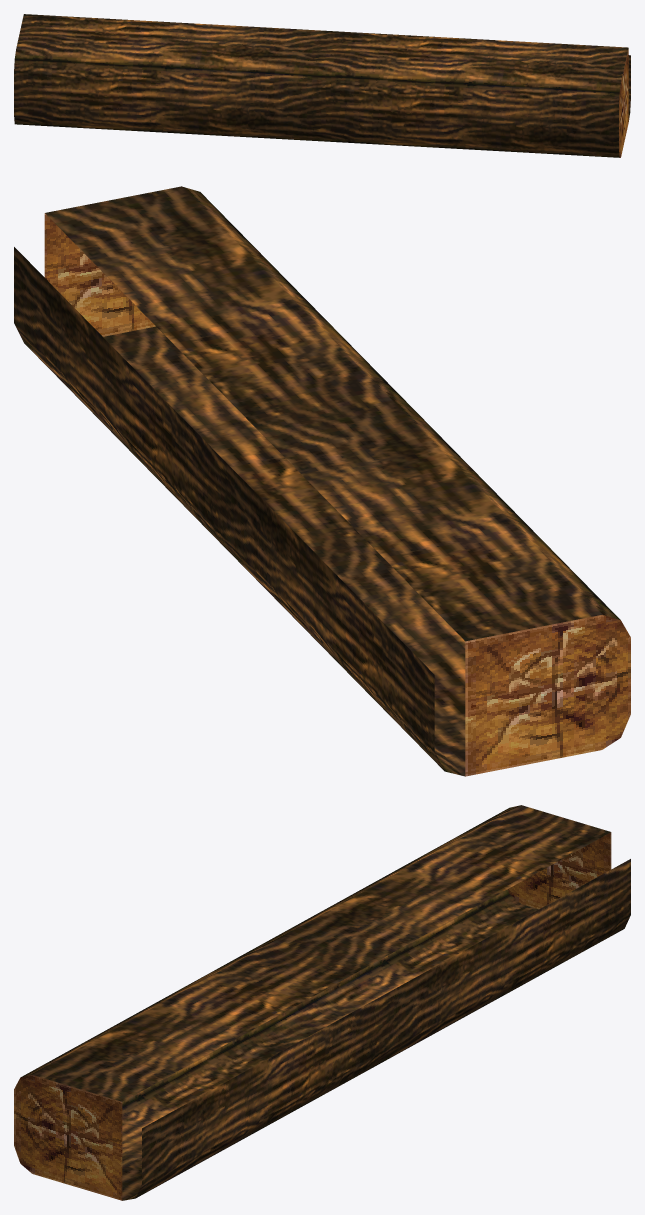
File: OVERHILL_A_01_LINE287.fbx
The picture shows the model from 3 angles, top to bottom: view 1: azimuth 30°, elevation 25°; view 2: azimuth 150°, elevation 25°; view 3: azimuth 270°, elevation 25°; orthographic projection. The views are drawn at different scales.
Visible parts, largest first — view 1: OVERHILL_A_01_LINE287; view 2: OVERHILL_A_01_LINE287; view 3: OVERHILL_A_01_LINE287.
Boxes of the visible parts, bbox=[...] form: OVERHILL_A_01_LINE287: bbox=[14, 14, 630, 157]; OVERHILL_A_01_LINE287: bbox=[14, 186, 630, 776]; OVERHILL_A_01_LINE287: bbox=[14, 805, 630, 1200].
Size of the model in its own units: 31335 by 4688 by 26463.
2 materials, 2 textured.
